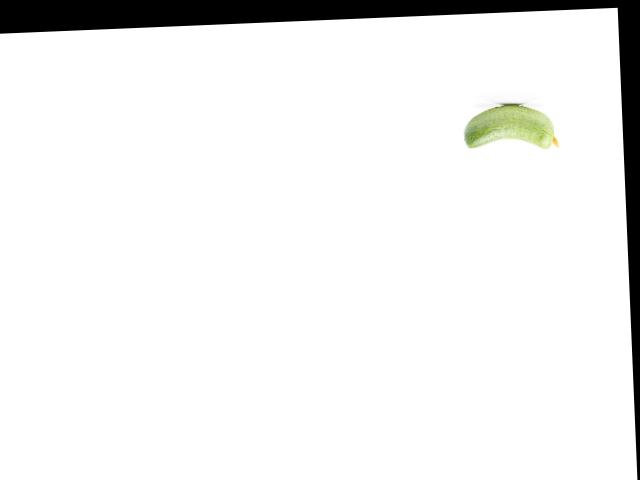cucumber: (461, 101, 559, 152)
